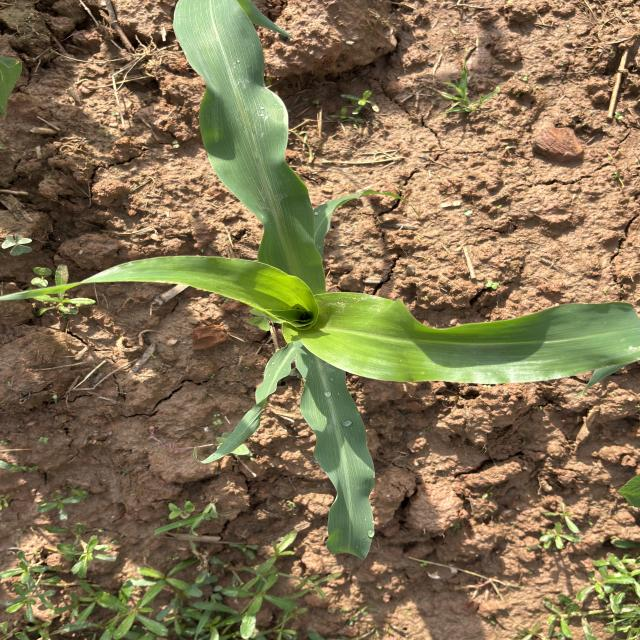maize: (190, 83, 566, 513)
weed: (30, 527, 302, 640), (527, 475, 640, 640), (342, 75, 528, 128), (7, 270, 112, 323)
